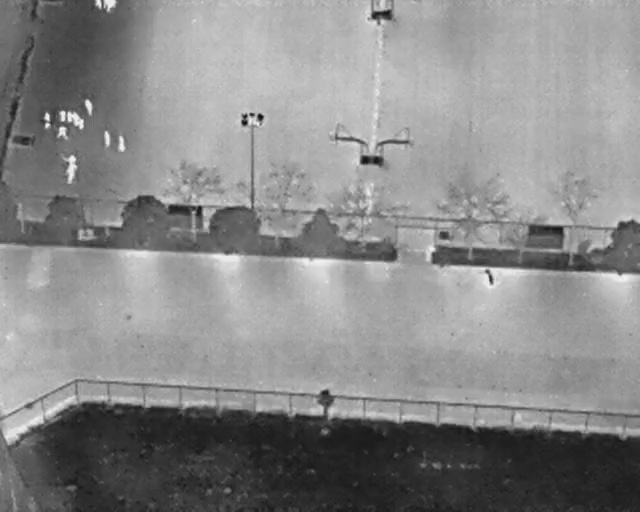Bicycle: (481, 265, 497, 287)
Person: (81, 94, 95, 118), (64, 151, 79, 172), (101, 127, 112, 150), (65, 166, 77, 186), (40, 109, 52, 129), (101, 0, 118, 14), (116, 134, 126, 153), (56, 126, 68, 139), (93, 0, 103, 11), (58, 109, 66, 121), (72, 113, 79, 126), (78, 118, 85, 131), (66, 111, 73, 123)
